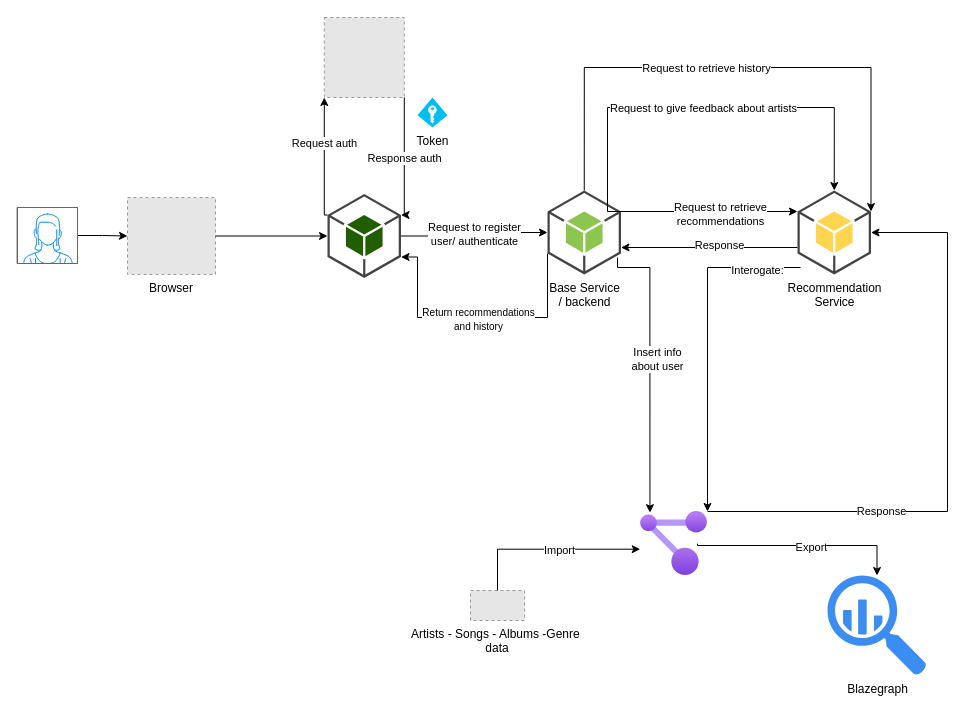
Image size: 973x714. Some labels were removed from this diagram. Grey dashed boxes stand in for pictures. Here are the shapes that lost their labels. From the top down, the box of each, then its label:
(16, 206, 78, 264): User
(326, 193, 401, 278): Client server / Interface
(640, 511, 707, 575): Graph database
